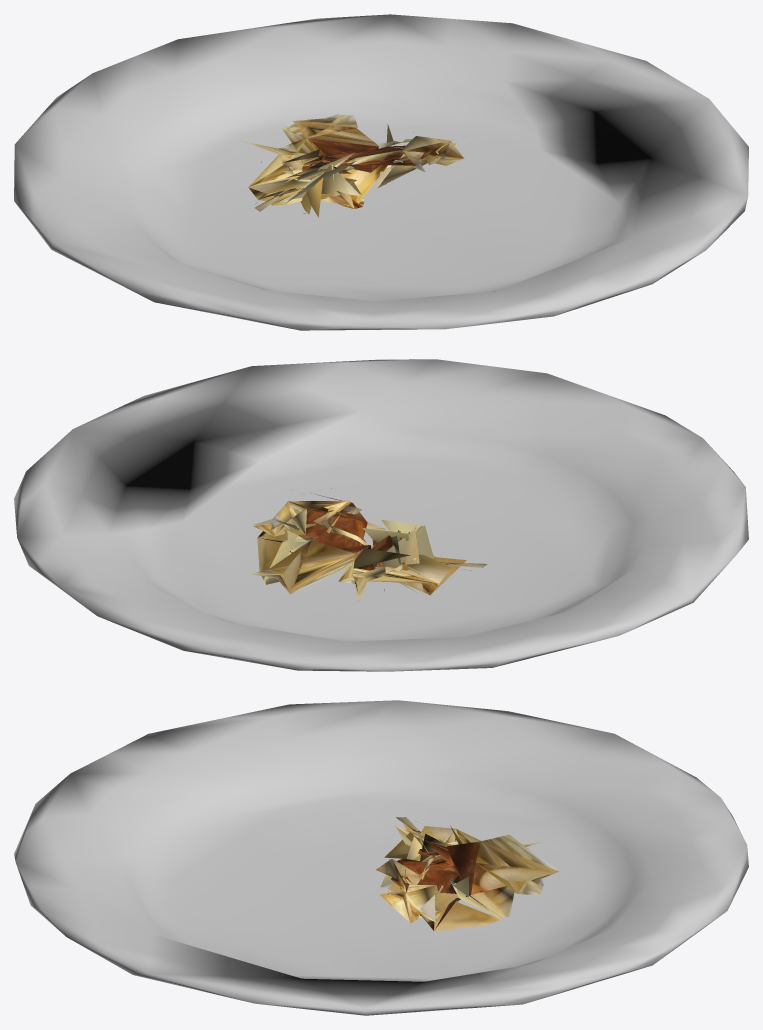
File: plateWithFood1Eaten3.fbx
3 renders of one model, top to bottom at view 1: azimuth 30°, elevation 25°; view 2: azimuth 150°, elevation 25°; view 3: azimuth 270°, elevation 25°, orthographic.
Parts seen in each view (by area): view 1: plate, Dish_Circle; view 2: plate, Dish_Circle; view 3: plate, Dish_Circle.
Part boxes in pixels (bbox=[...]): plate: bbox=[14, 14, 748, 330]; Dish_Circle: bbox=[243, 114, 464, 217]; plate: bbox=[14, 359, 748, 671]; Dish_Circle: bbox=[250, 488, 487, 601]; plate: bbox=[14, 700, 748, 1015]; Dish_Circle: bbox=[376, 817, 559, 931].
Size of the model in its own units: 116 by 11.52 by 116.
